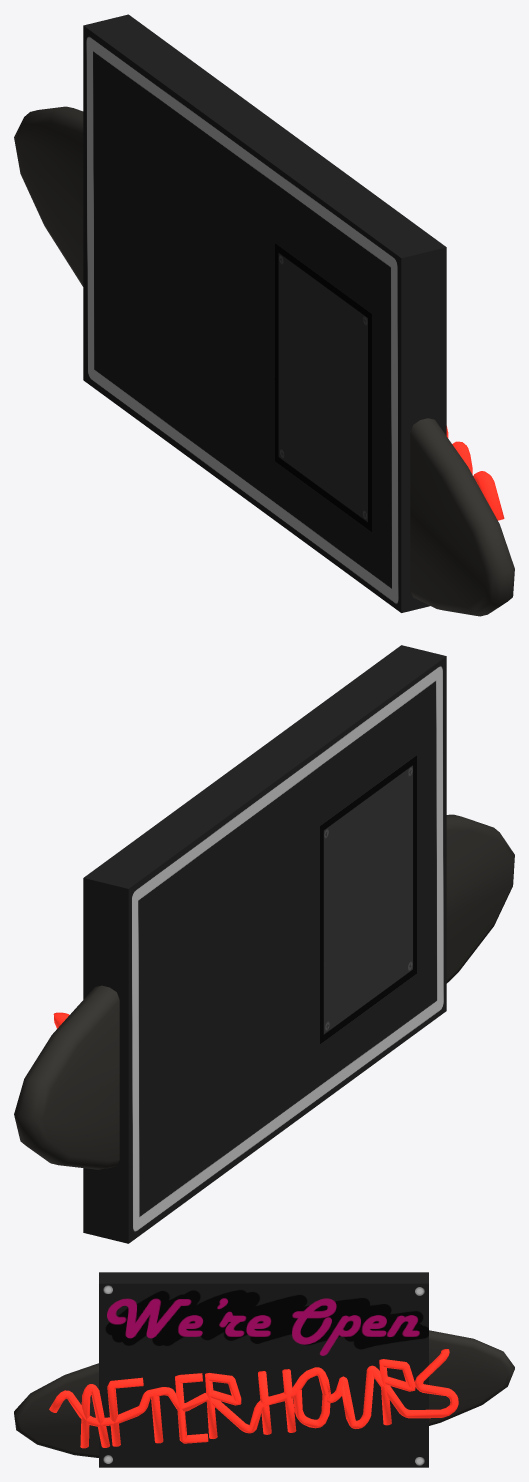
Rendered from OpenSign.fbx.
3 views of the same model, one above another, from view 1: azimuth 30°, elevation 25°; view 2: azimuth 150°, elevation 25°; view 3: azimuth 270°, elevation 25° (orthographic). The views are drawn at different scales.
Visible parts, largest first — view 1: Cube.001; view 2: Cube.001; view 3: Cube.001.
Part boxes in pixels (x1,y1,x2,y2): Cube.001: (14, 14, 514, 616); Cube.001: (14, 645, 514, 1243); Cube.001: (14, 1272, 514, 1467).
Bounding box in the file's own units: 10.26 × 60 × 148.
3 materials, 1 textured.
